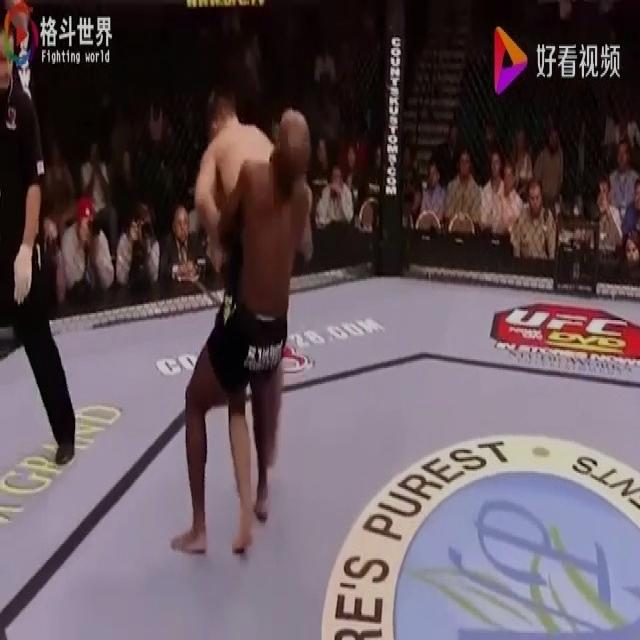fight: (175, 82, 319, 562)
non-fight: (0, 0, 88, 473)
